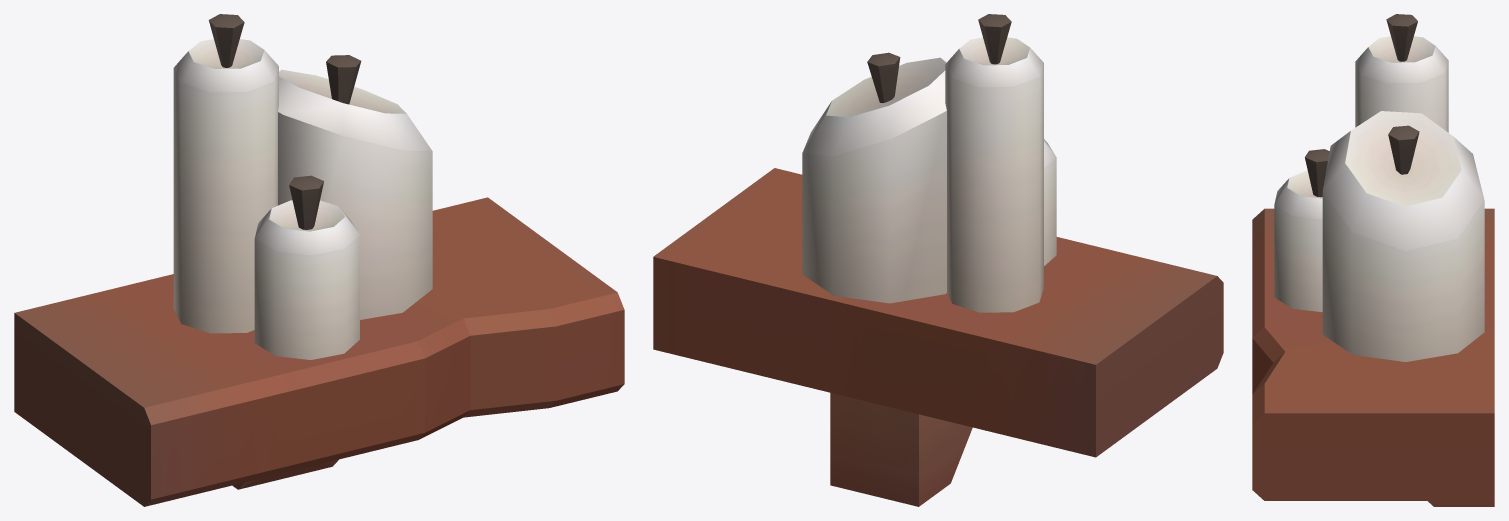
File: kay-prateleira-velas.gltf
3 renders of one model, left to right at view 1: azimuth 30°, elevation 25°; view 2: azimuth 150°, elevation 25°; view 3: azimuth 270°, elevation 25°, orthographic. The views are drawn at different scales.
Visible parts, largest first — view 1: shelf_small_candles; view 2: shelf_small_candles; view 3: shelf_small_candles.
Boxes of the visible parts, bbox=[...] form: shelf_small_candles: bbox=[14, 14, 624, 506]; shelf_small_candles: bbox=[653, 14, 1223, 506]; shelf_small_candles: bbox=[1252, 14, 1494, 506].
Bounding box in the file's own units: 0.65 × 0.6462 × 0.325.
Materials: 1 (1 with a texture image).
